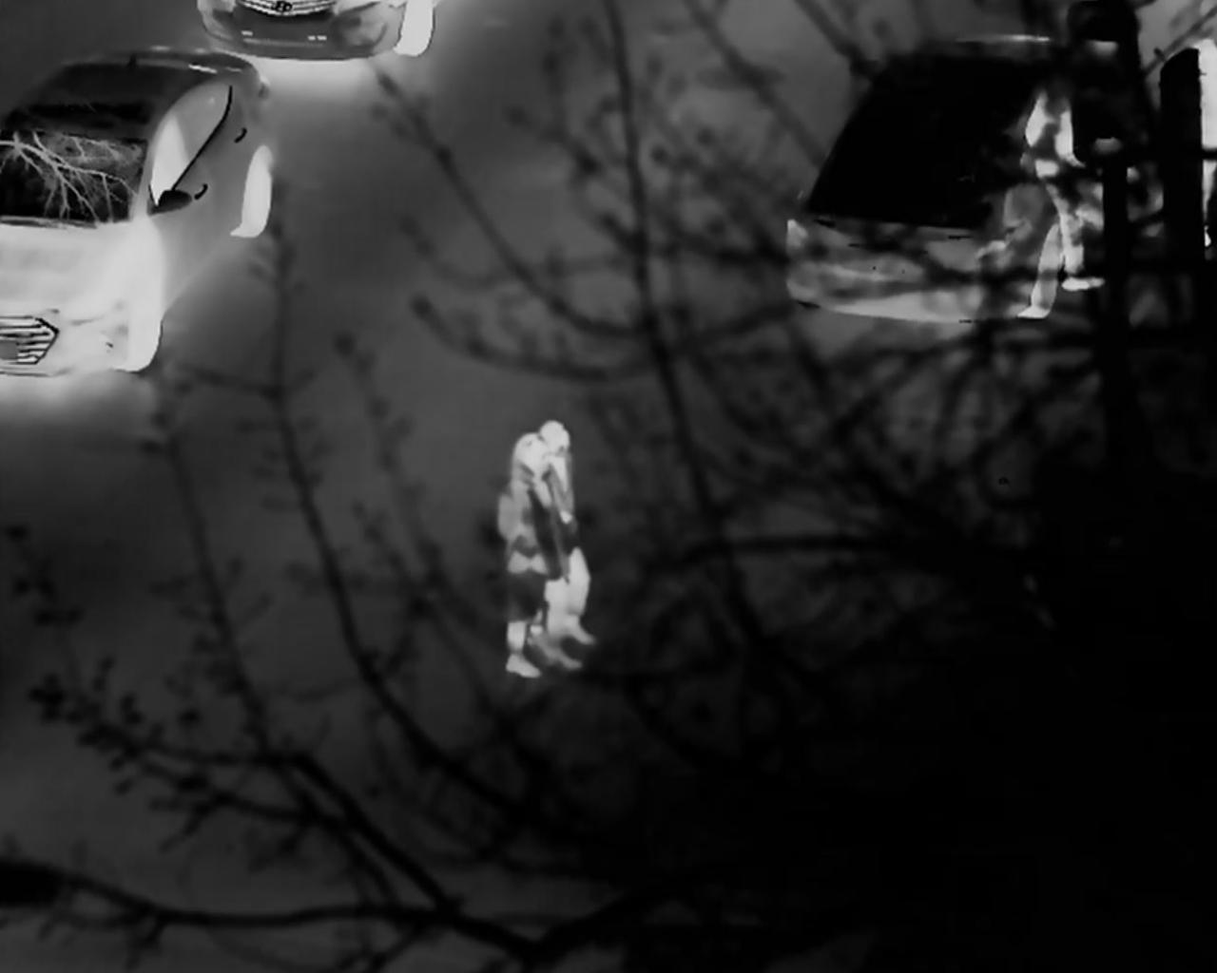person: (1022, 94, 1104, 290), (534, 414, 595, 655), (508, 430, 557, 674)
